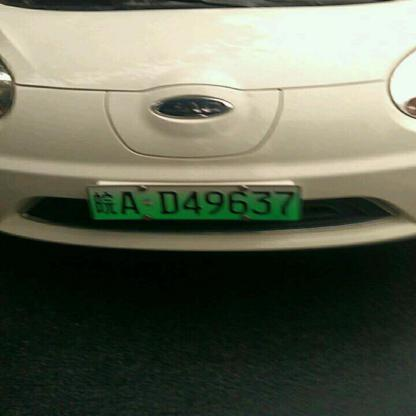lp: (86, 186, 299, 219)
